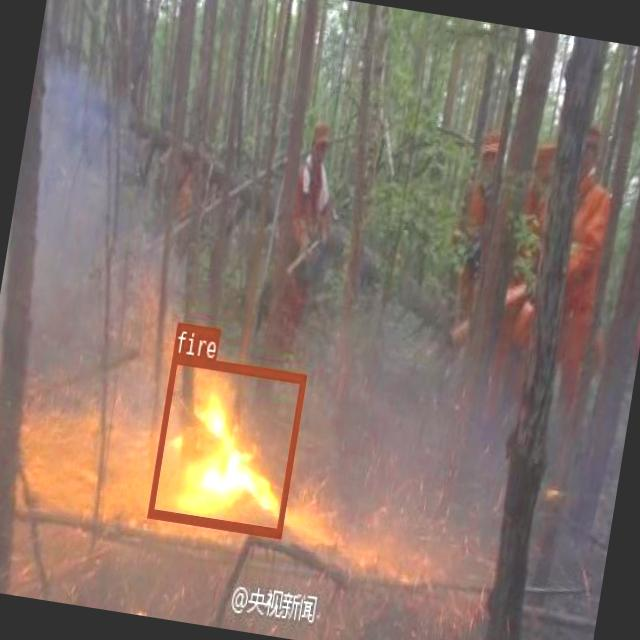fire: (147, 354, 306, 536)
